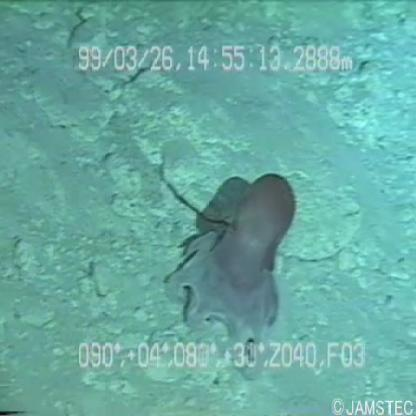Bio: (163, 169, 299, 365)
